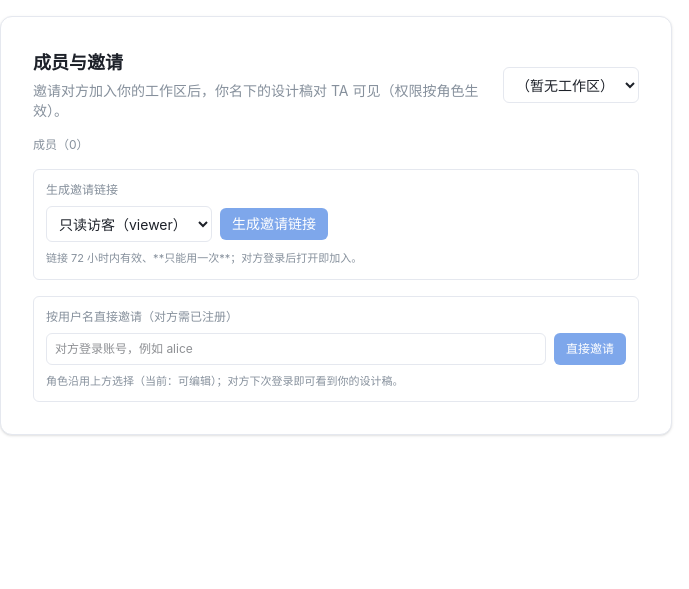
Test case: T46a-4：成员与邀请面板 › T46a-4：按用户名直接邀请（后端 409/404 原样显示）
Type "guest" into the field with test id "invite-username".
click(296, 348); type("guest")  # box [46,332,546,364]
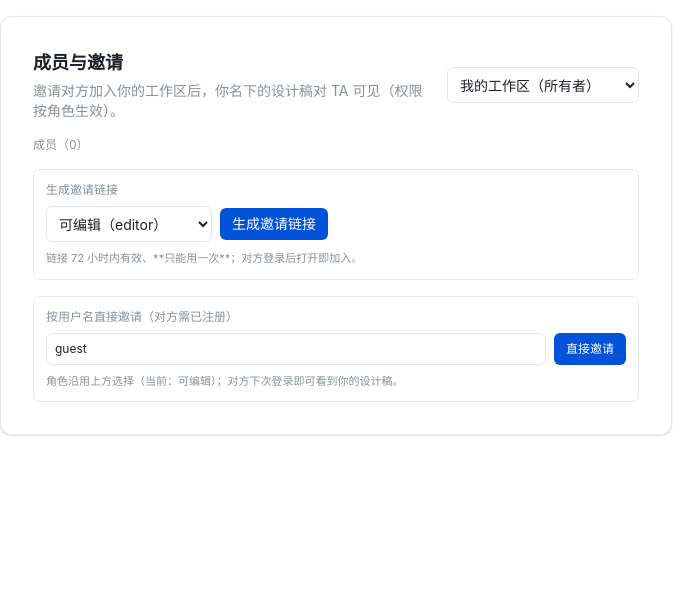
Click the button with test id "invite-username-submit".
click(590, 348)  # box [554,332,626,364]
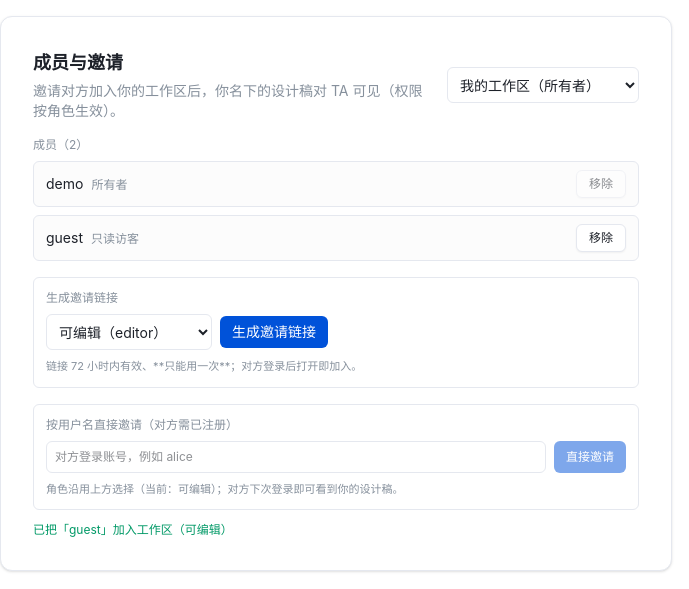
Expected: the text with test id "members-msg" shows "guest", [33,522,233,537]
